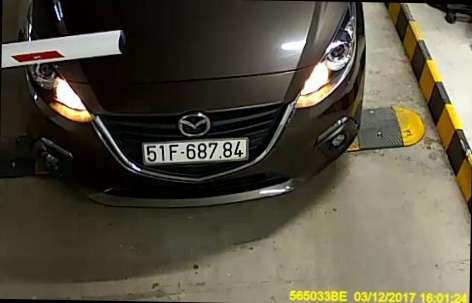plate: (140, 136, 253, 172)
